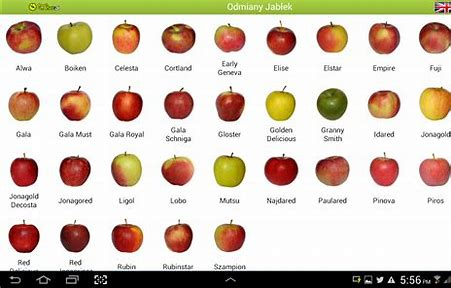inorganic: (4, 19, 52, 70), (159, 146, 195, 194), (262, 148, 303, 189), (108, 85, 149, 125), (2, 218, 41, 260), (211, 218, 253, 257), (157, 20, 201, 57), (315, 83, 351, 128), (208, 20, 252, 56), (415, 85, 449, 131), (211, 150, 251, 189), (260, 83, 298, 123), (316, 151, 353, 192), (368, 18, 406, 57), (55, 83, 93, 122), (56, 23, 100, 55), (314, 17, 351, 54), (6, 86, 43, 123), (56, 152, 91, 191), (109, 152, 143, 192), (109, 18, 145, 55), (109, 219, 144, 257), (370, 144, 398, 191), (161, 87, 199, 121), (418, 18, 451, 57), (56, 218, 91, 254), (160, 219, 194, 255), (419, 150, 449, 189), (370, 87, 404, 121), (265, 20, 296, 56), (7, 154, 39, 188), (217, 88, 247, 123)
